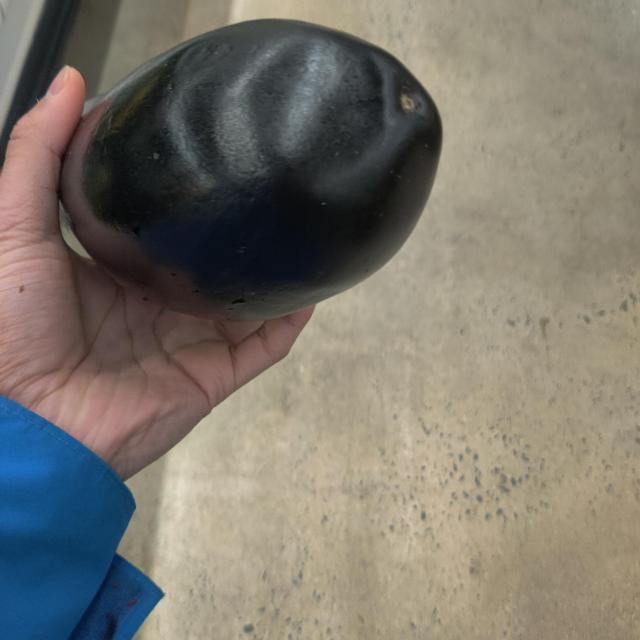Eggplant: (9, 17, 445, 309)
